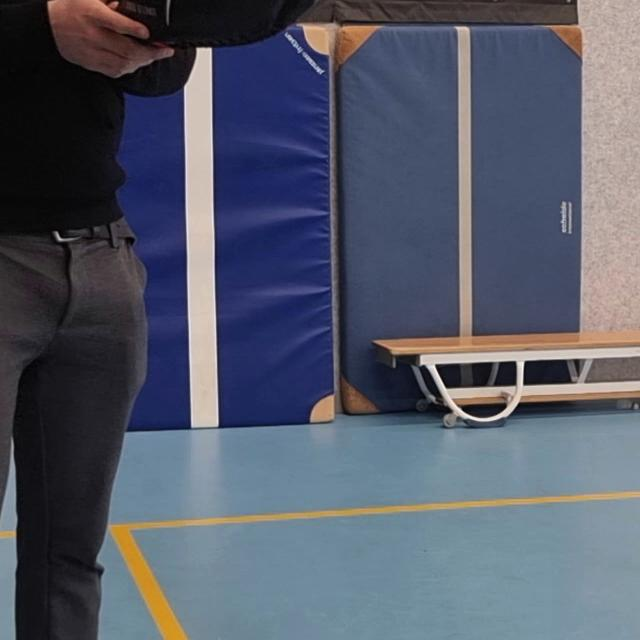paddle: (104, 0, 337, 47)
